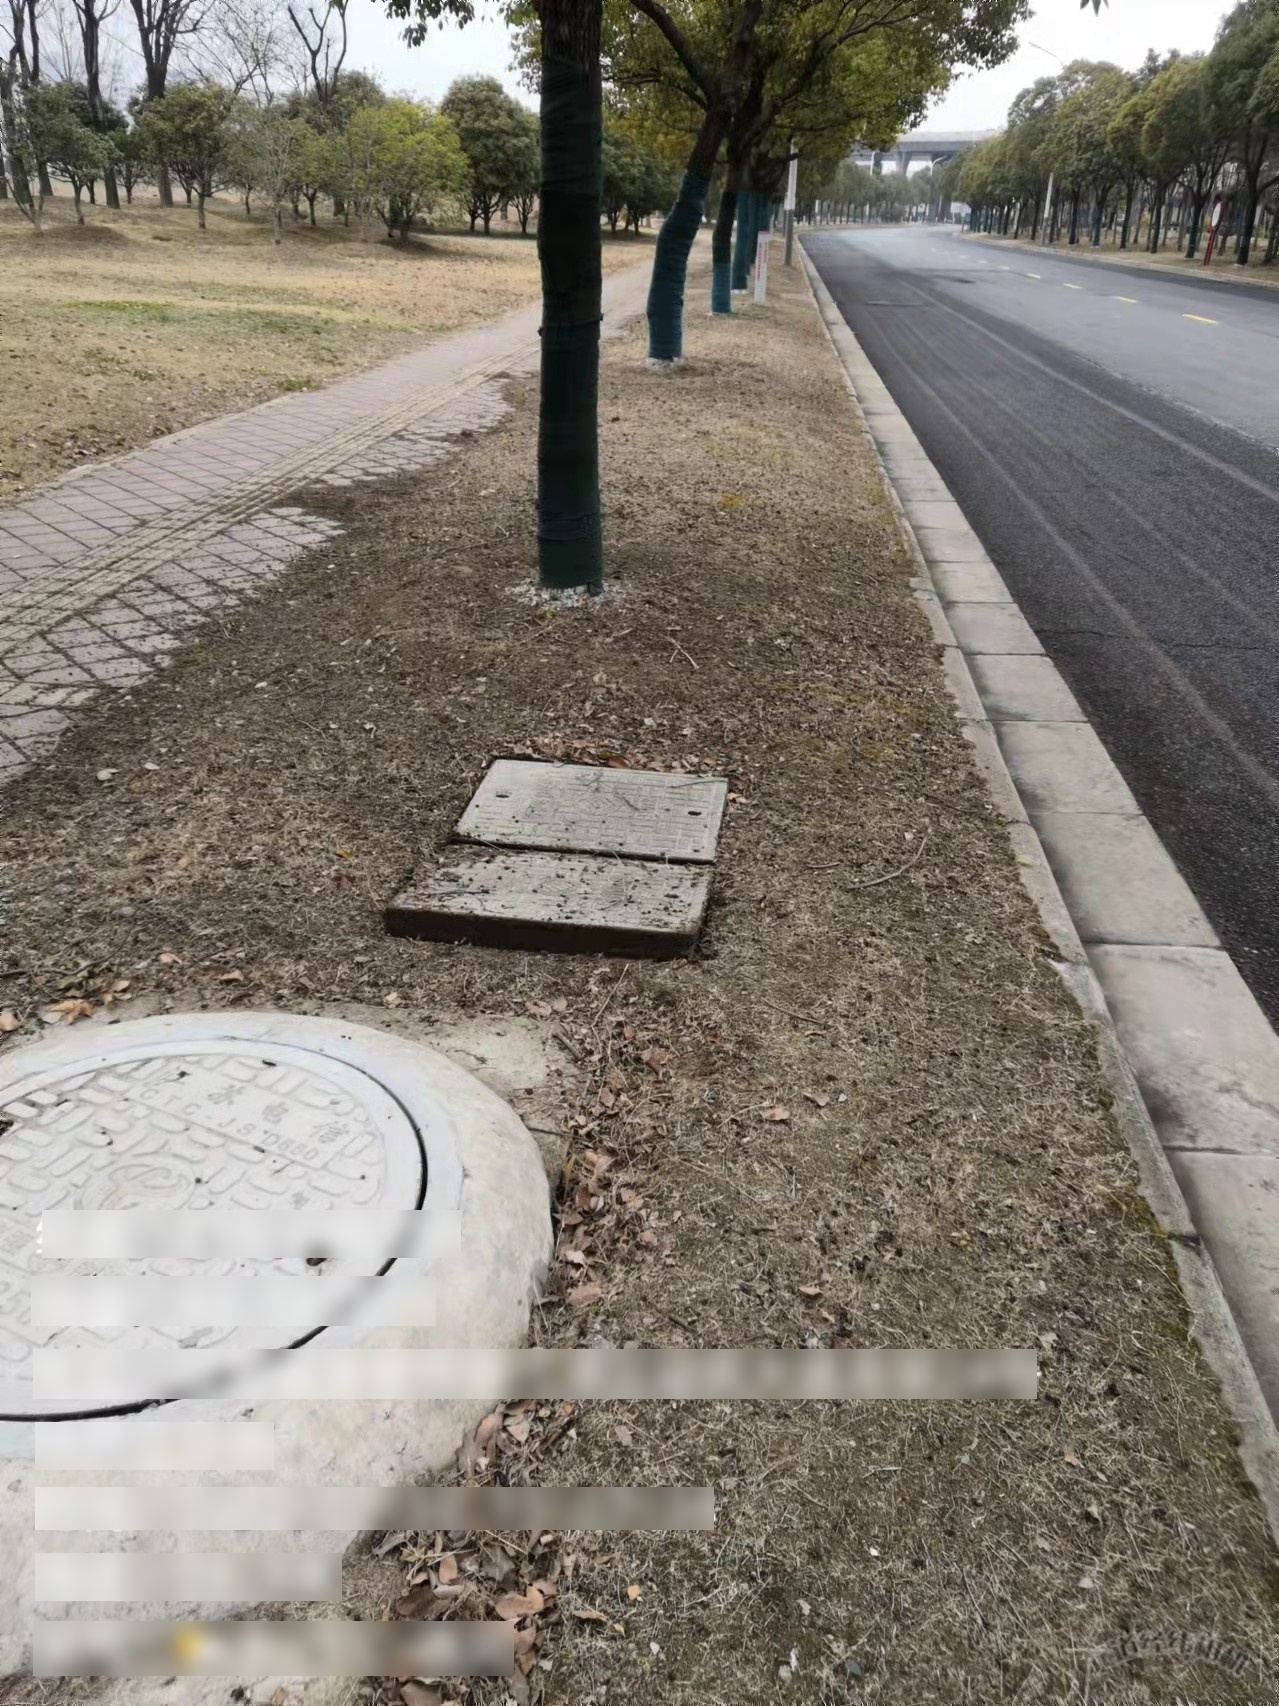good: (1, 1034, 449, 1433)
uncovered: (386, 755, 732, 952)
